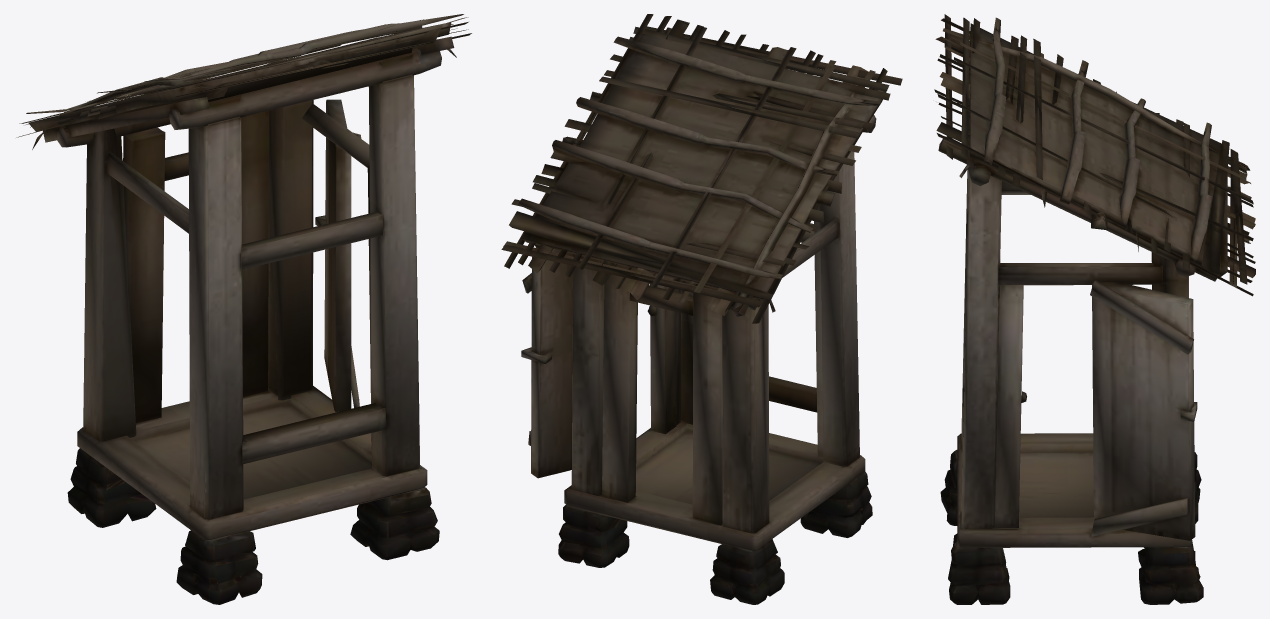
Rendered from outhouse.glb.
3 renders of one model, left to right at view 1: azimuth 30°, elevation 25°; view 2: azimuth 150°, elevation 25°; view 3: azimuth 270°, elevation 25°, orthographic. The views are drawn at different scales.
Visible parts, largest first — view 1: tripo_node_dc2a404b-38df-498a-97c8-76ccfb7d036f; view 2: tripo_node_dc2a404b-38df-498a-97c8-76ccfb7d036f; view 3: tripo_node_dc2a404b-38df-498a-97c8-76ccfb7d036f.
Part boxes in pixels (left/top/right/bottom): tripo_node_dc2a404b-38df-498a-97c8-76ccfb7d036f: left=16, top=14, right=471, bottom=604; tripo_node_dc2a404b-38df-498a-97c8-76ccfb7d036f: left=501, top=14, right=902, bottom=604; tripo_node_dc2a404b-38df-498a-97c8-76ccfb7d036f: left=934, top=14, right=1255, bottom=604.
Bounding box in the file's own units: 0.6465 × 0.998 × 0.6074.
1 material, 1 textured.
